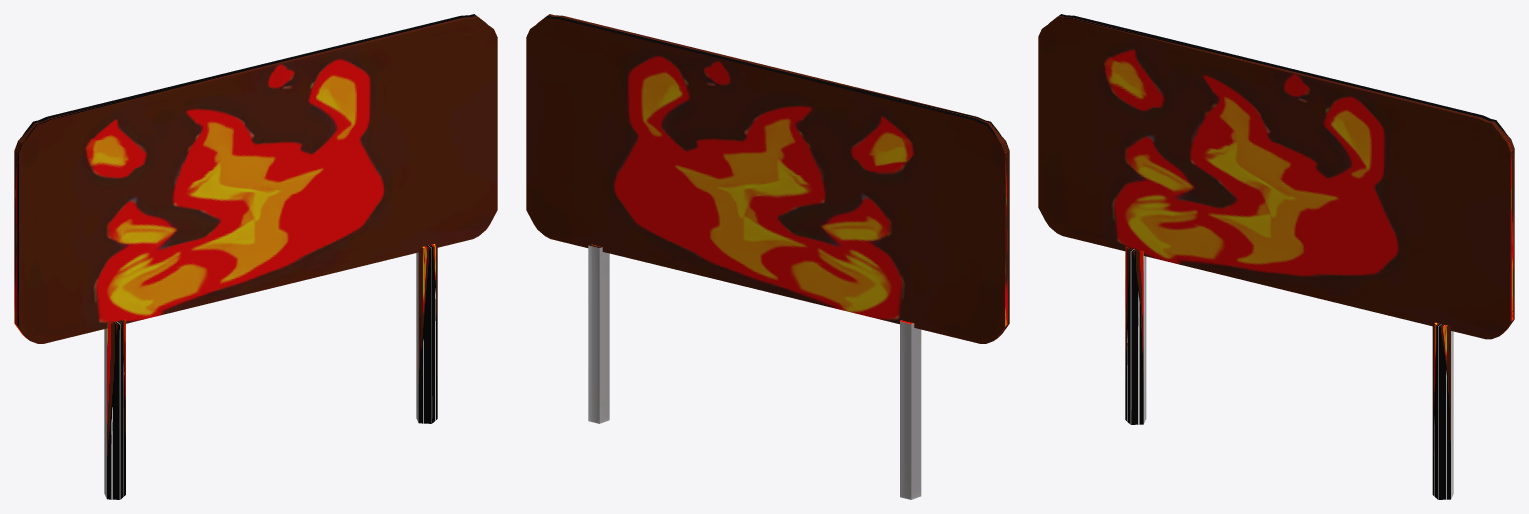
The model's file is SSign.glb.
The picture shows the model from 3 angles, left to right: view 1: azimuth 30°, elevation 25°; view 2: azimuth 150°, elevation 25°; view 3: azimuth 330°, elevation 25°; orthographic projection.
Parts seen in each view (by area): view 1: SSign; view 2: SSign; view 3: SSign.
Part boxes in pixels (x1,y1,x2,y2): SSign: (14, 14, 497, 499); SSign: (526, 14, 1009, 499); SSign: (1038, 14, 1514, 499).
Size of the model in its own units: 150 by 118 by 5.52.
Materials: 1 (1 with a texture image).
